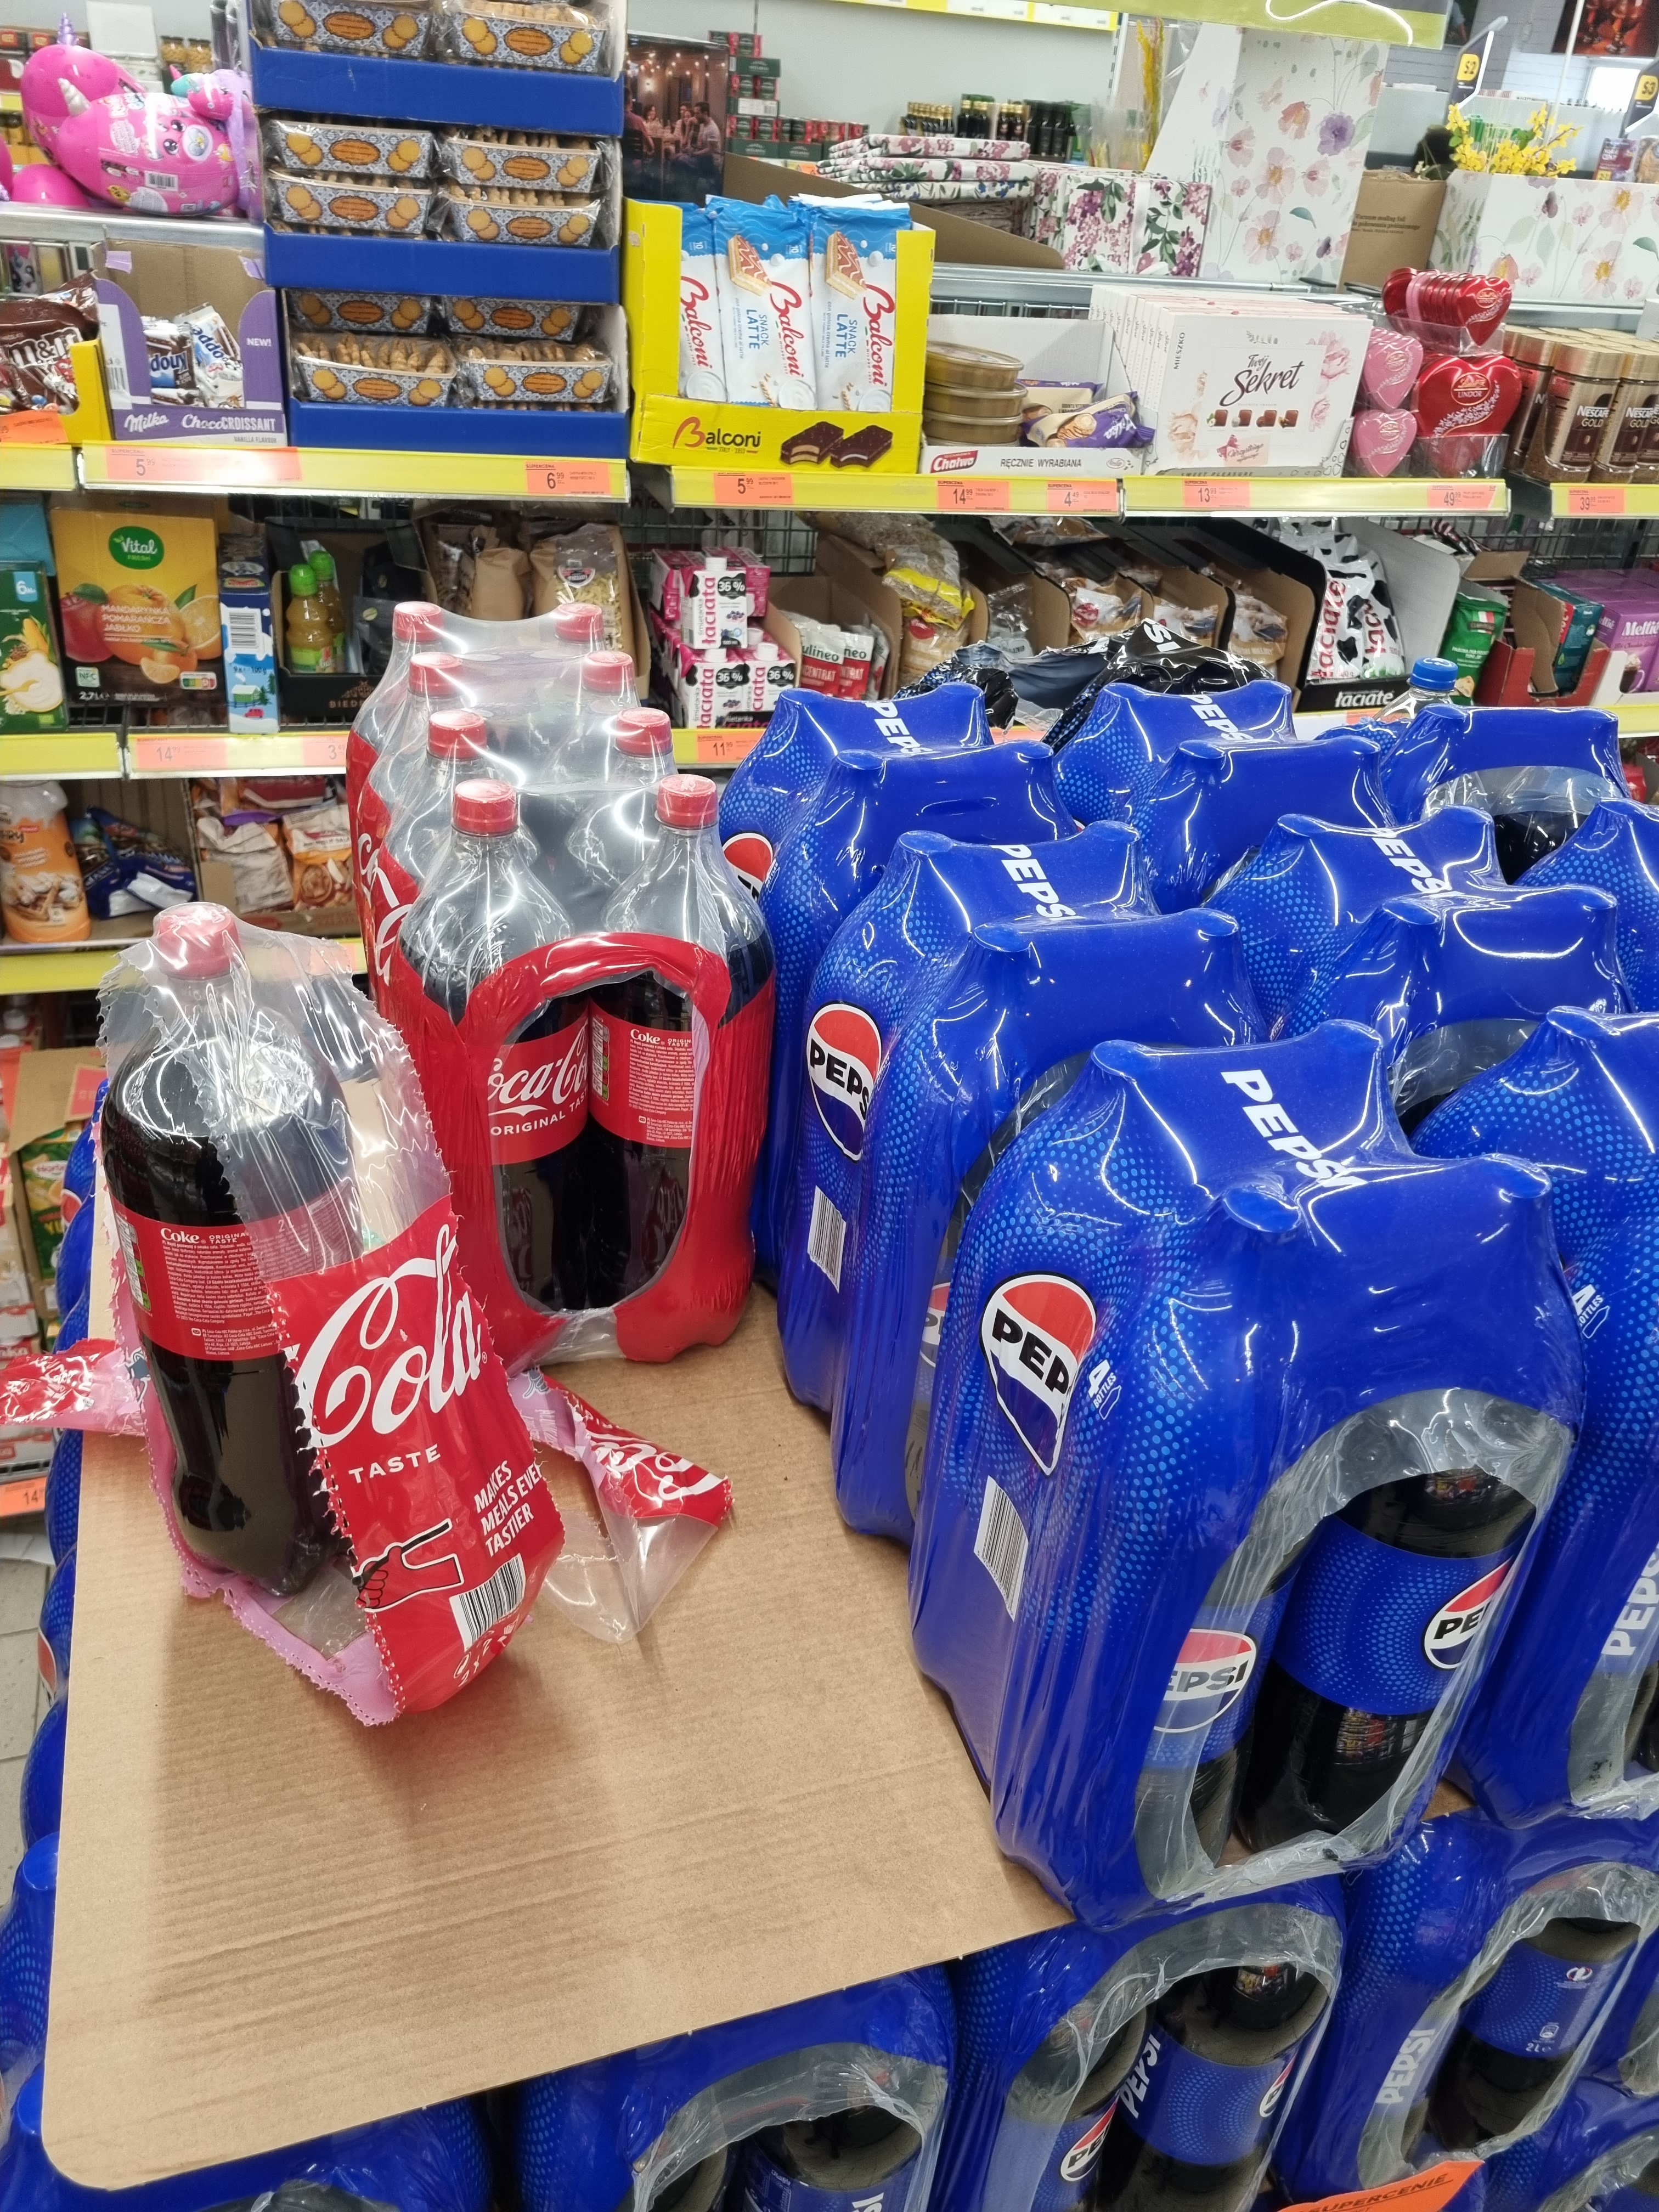Coca Cola: (98, 897, 373, 1608), (584, 782, 760, 1360), (394, 791, 589, 1312)
